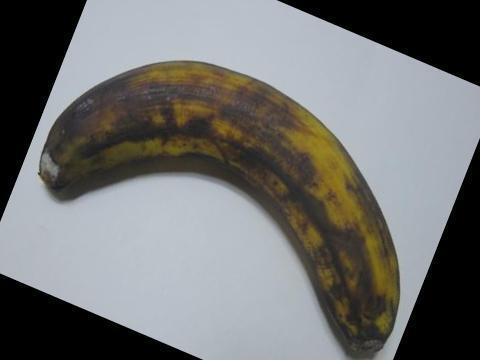overripe: (33, 57, 407, 359)
rotten: (22, 131, 94, 192)
